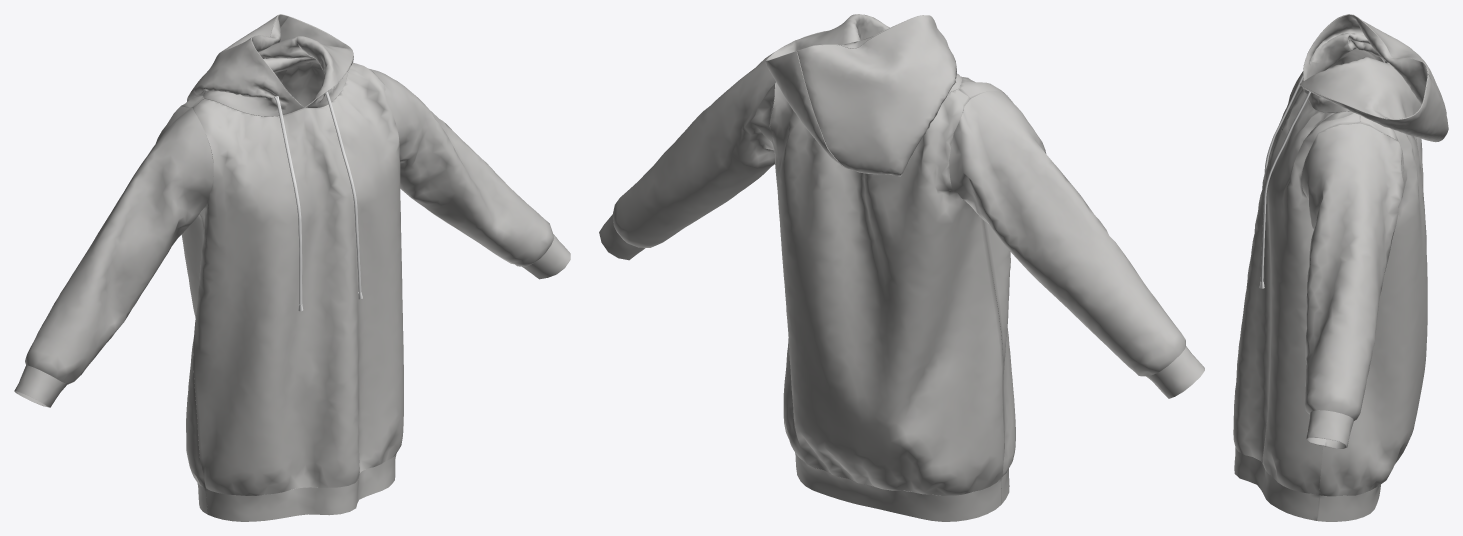
The model's file is FLG_11_05_2.fbx.
3 views of the same model, side by side, from view 1: azimuth 30°, elevation 25°; view 2: azimuth 150°, elevation 25°; view 3: azimuth 270°, elevation 25° (orthographic). The views are drawn at different scales.
Visible parts, largest first — view 1: FLG_11_05_2; view 2: FLG_11_05_2; view 3: FLG_11_05_2.
Boxes of the visible parts, <box> form: FLG_11_05_2: <box>14,14,570,521</box>; FLG_11_05_2: <box>599,14,1204,521</box>; FLG_11_05_2: <box>1233,14,1448,521</box>.
Bounding box in the file's own units: 110 × 86.83 × 37.37.
